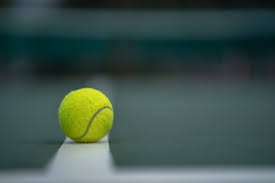tennis_ball: (56, 86, 115, 144)
